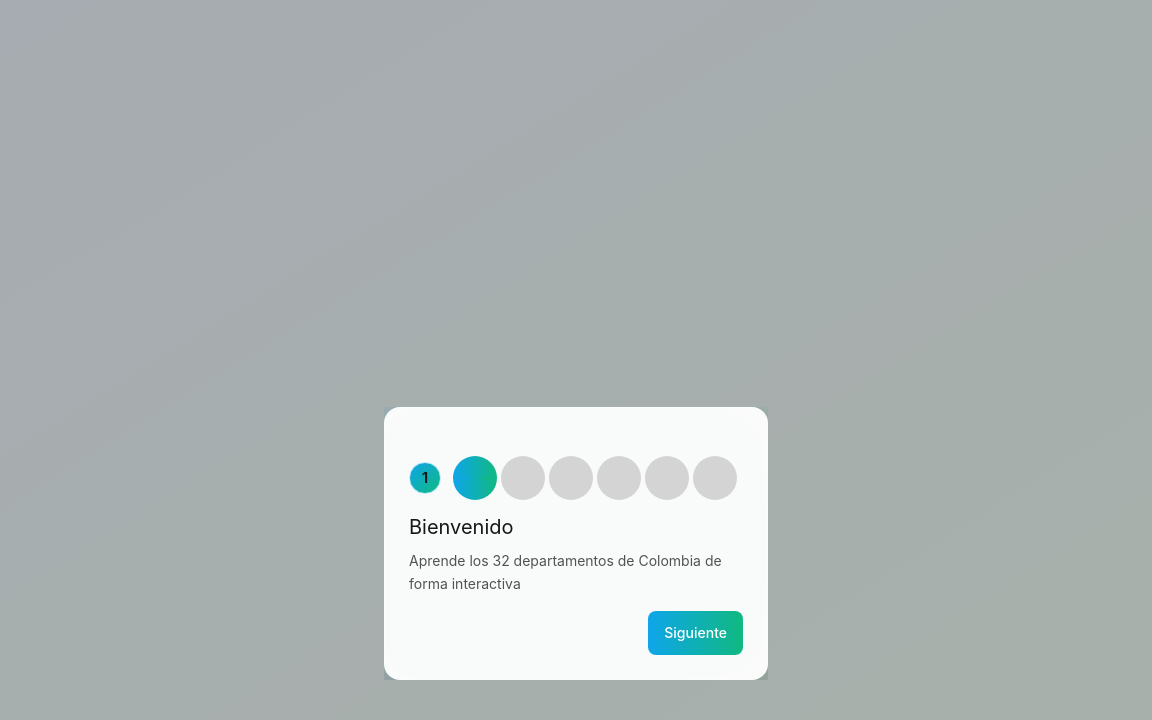
Test: InteractiveTutorial › Navigation › should show "Comenzar" button on last step
Click the button "Siguiente" at (696, 633), box 648,611 -> 743,655
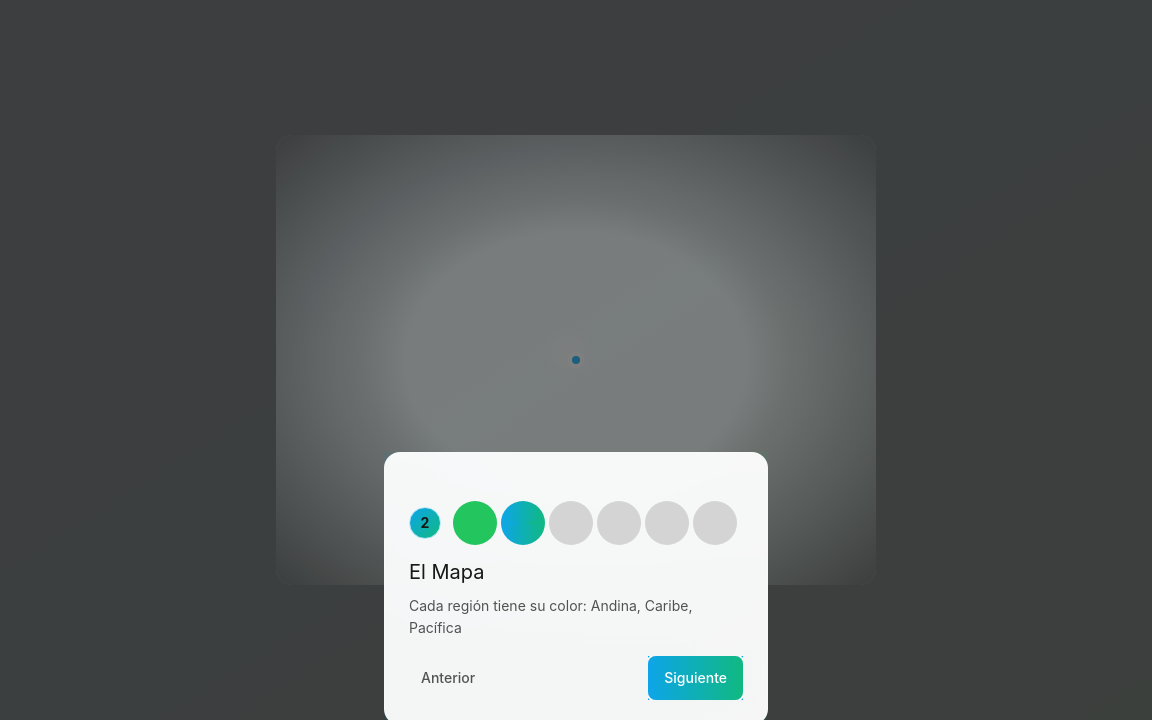
Click the button "Siguiente" at (696, 678), box 648,656 -> 743,700
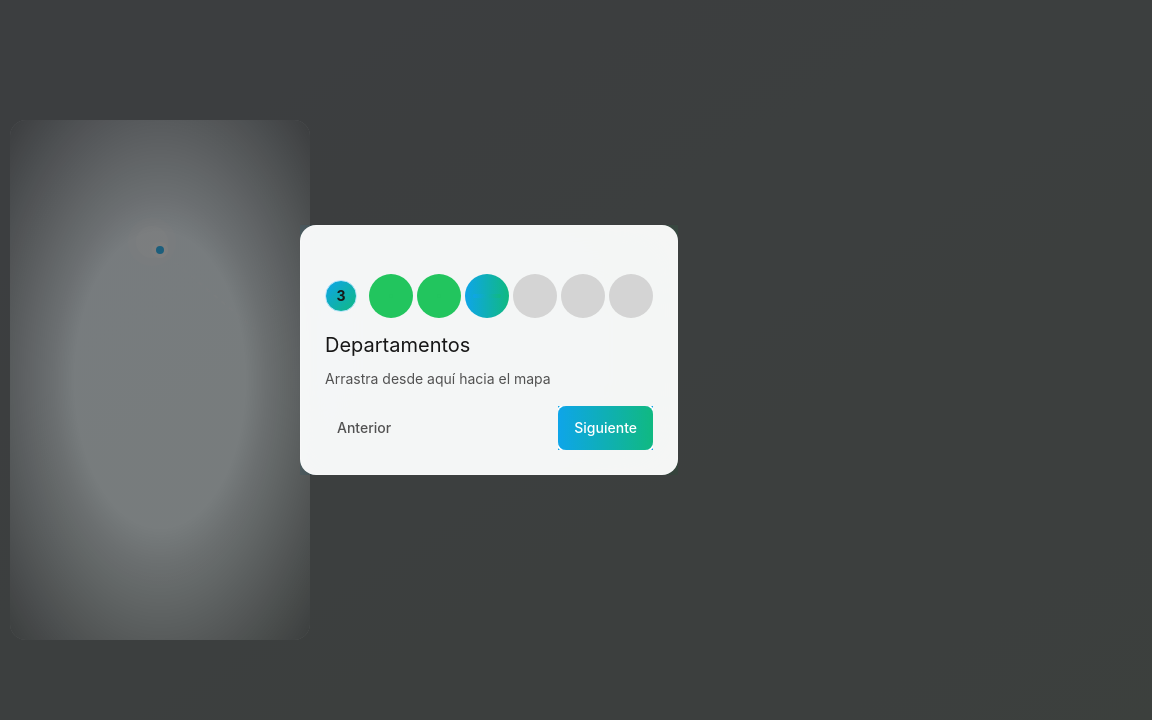
Click the button "Siguiente" at (606, 428), box 558,406 -> 653,450
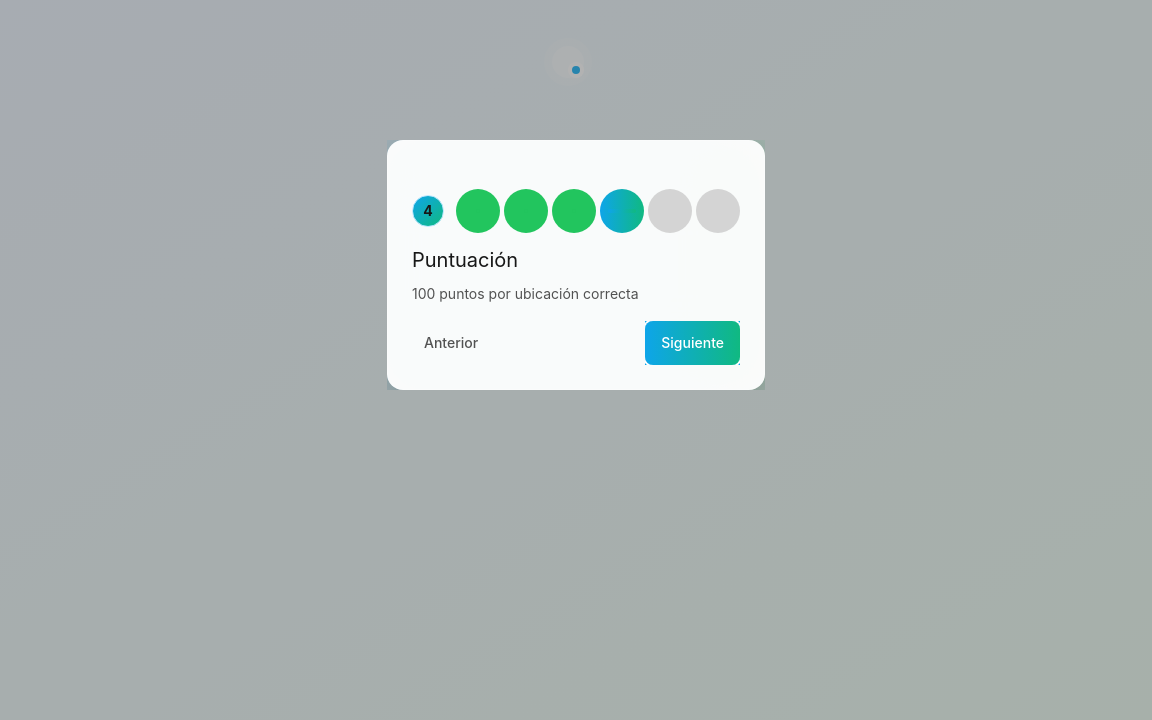
Click the button "Siguiente" at (693, 343), box 645,321 -> 740,365
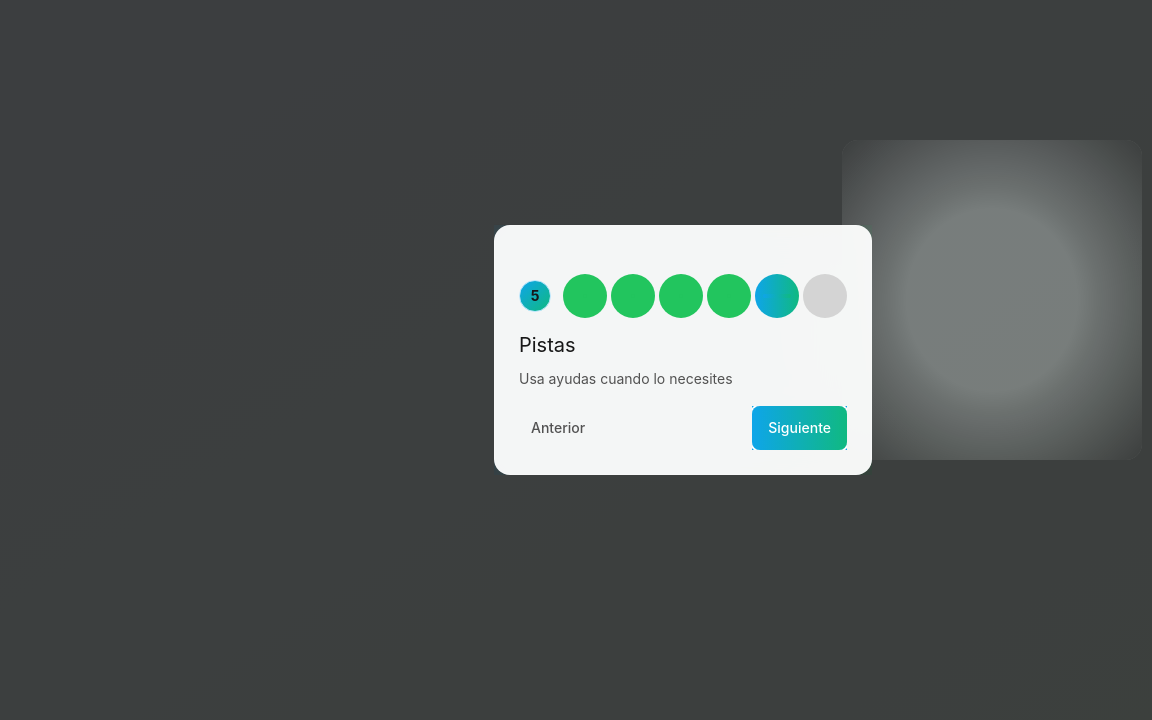
Click the button "Siguiente" at (800, 428), box 752,406 -> 847,450
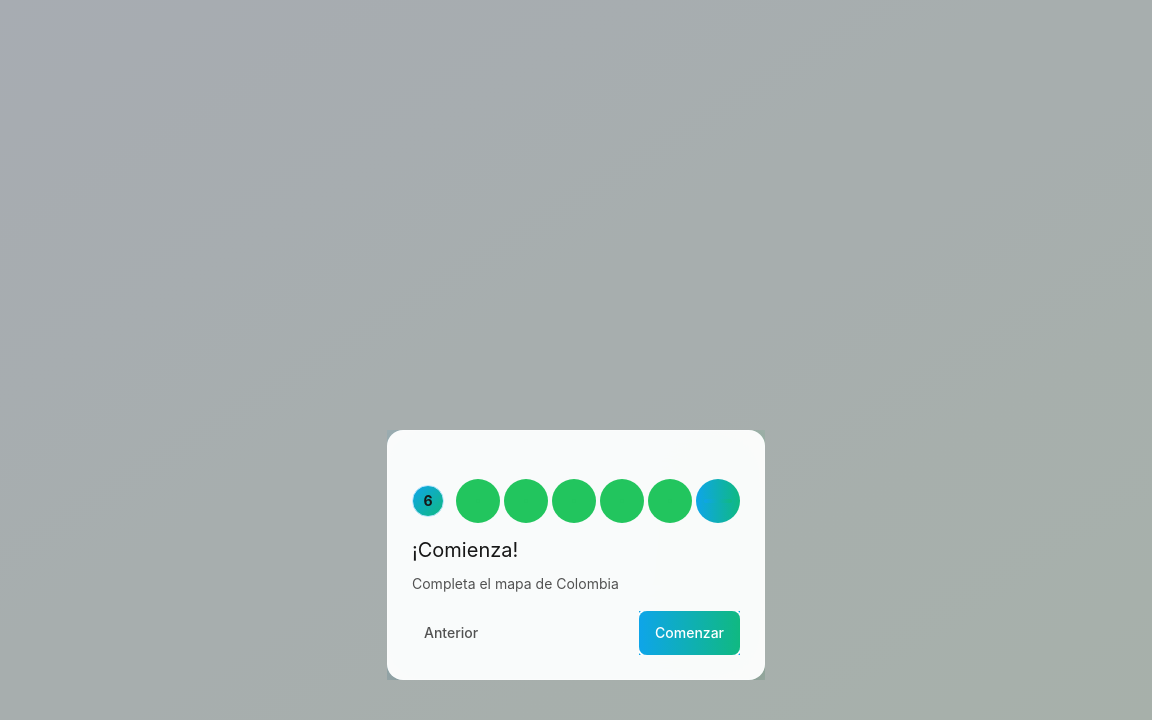
Expected: the button "Comenzar" is shown, 639,611 -> 740,655
